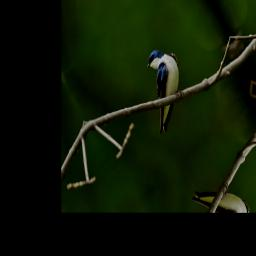Swallow: (130, 36, 199, 137)
